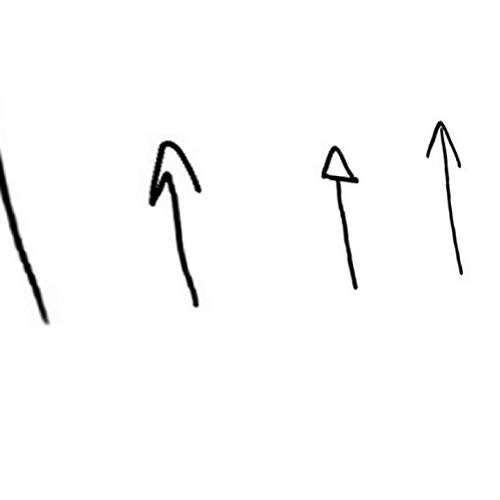arrow: (145, 136, 204, 312), (427, 118, 473, 277), (319, 147, 361, 290)
arrownohead: (1, 152, 49, 323)
